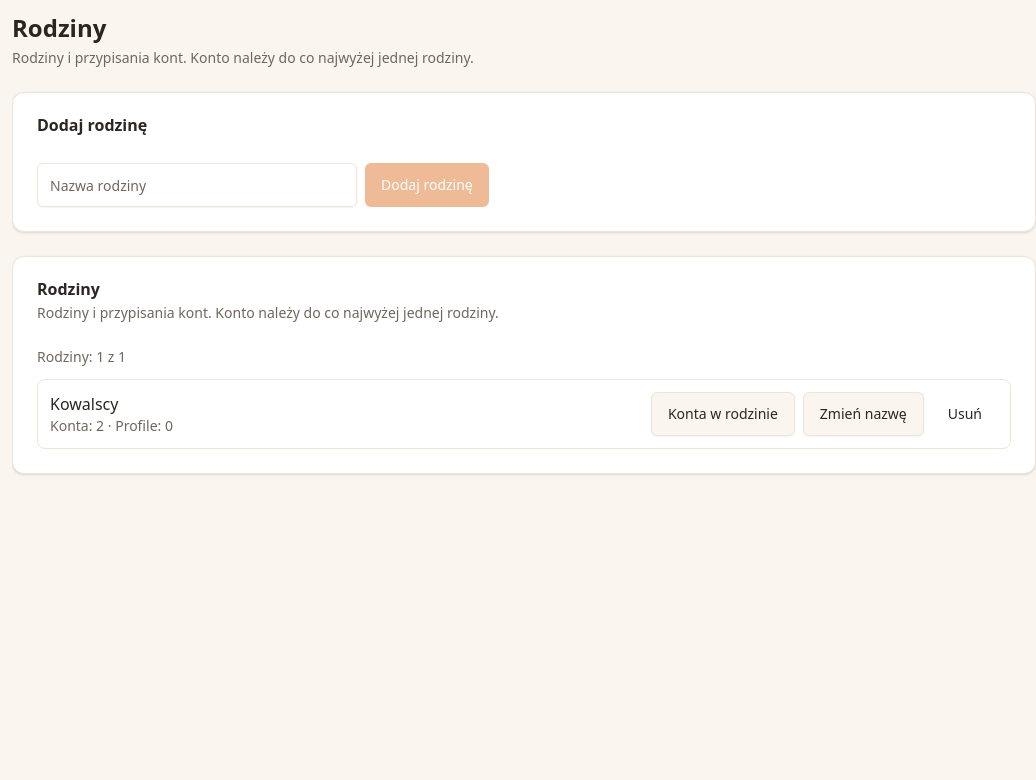
Test: AdminHouseholdsPage › po rozwinięciu składu pokazuje członków rodziny
Step 1. Click the button with test id "household-select-1" → (723, 414), box [651,392,795,436]
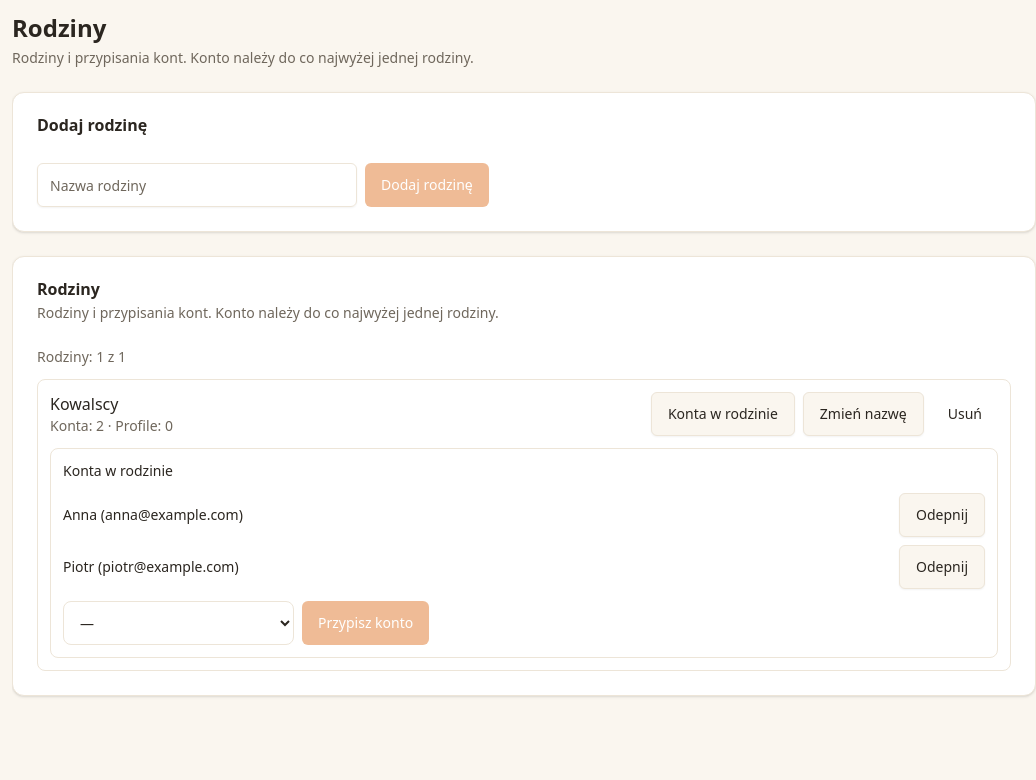
expect the list item with test id "household-member-10" shows "anna@example.com": met, box [63,505,243,524]
expect the dropdown with test id "household-assign-select" is shown: met, box [63,601,294,645]
